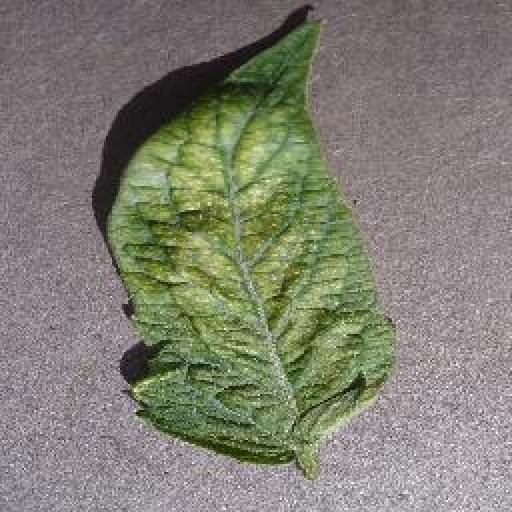disease_tomato: (109, 11, 400, 464)
